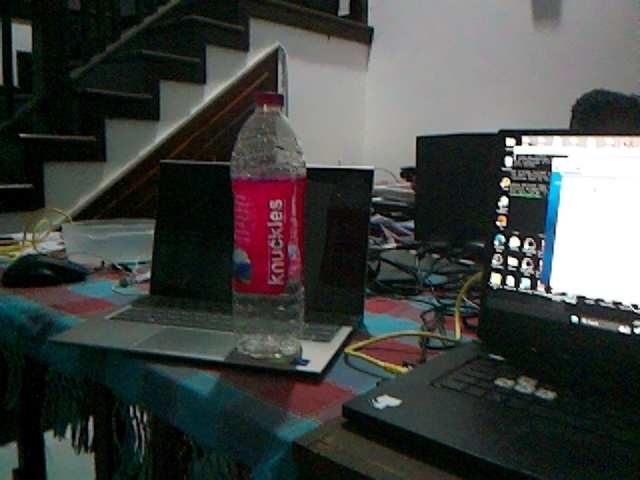bottle: (224, 88, 311, 364)
